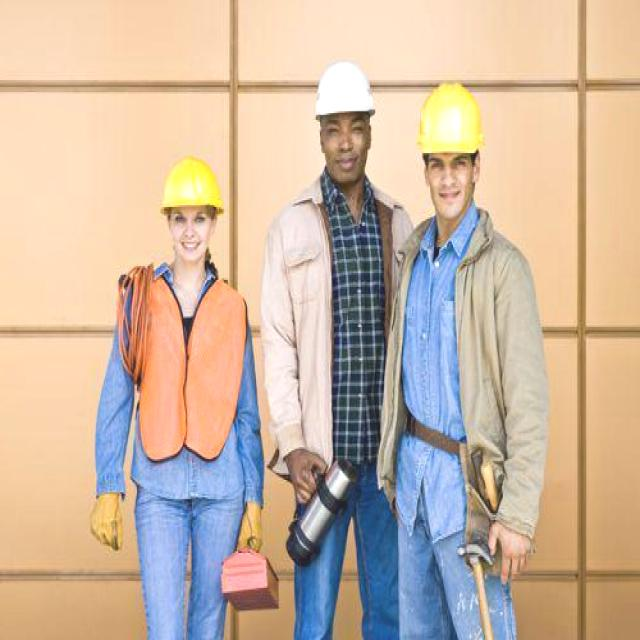face_nomask: (425, 153, 471, 226), (328, 108, 367, 182), (164, 212, 215, 256)
hand_glove: (91, 483, 128, 560), (234, 480, 269, 557)
hand_noglove: (480, 518, 544, 576), (293, 433, 328, 511)
head_helmet: (407, 78, 480, 164), (313, 51, 377, 126), (162, 158, 222, 216)
person: (94, 132, 248, 624), (393, 66, 527, 609), (282, 26, 399, 597)
